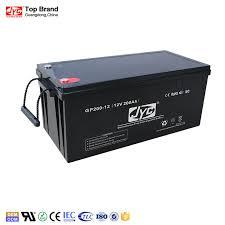battery: (21, 49, 210, 162)
